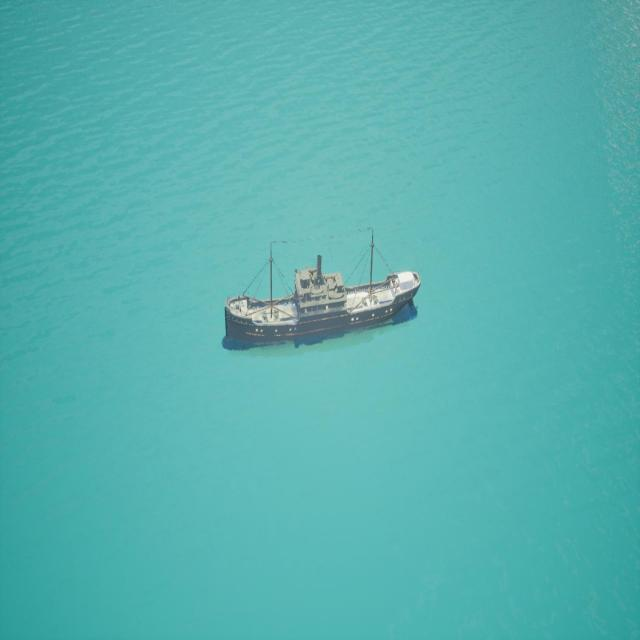fishing ship: (225, 232, 421, 352)
